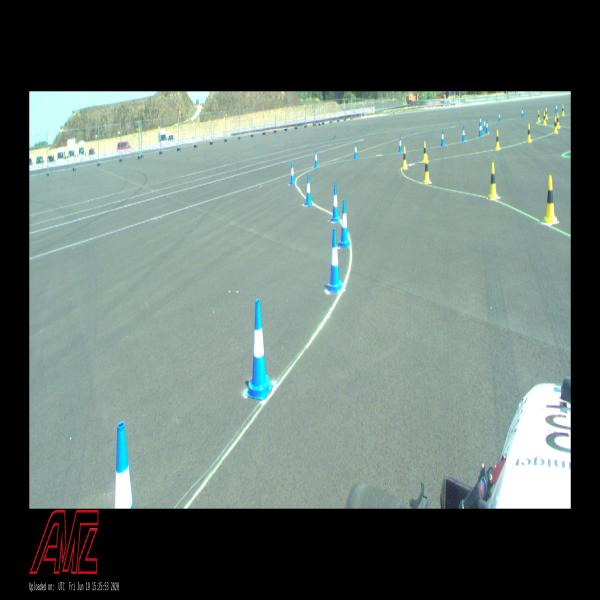blue_cone: (246, 298, 273, 399), (115, 421, 132, 509), (327, 228, 342, 293), (339, 199, 350, 248), (330, 184, 340, 222), (305, 174, 312, 206), (290, 162, 295, 184), (314, 149, 319, 168), (398, 136, 402, 153), (354, 142, 358, 159), (441, 130, 445, 146), (462, 126, 466, 142), (478, 123, 482, 137), (485, 119, 489, 133), (483, 118, 486, 130), (555, 103, 558, 114), (498, 112, 501, 122), (521, 108, 524, 118), (479, 116, 481, 126)
yellow_cone: (544, 176, 558, 224), (488, 163, 497, 198), (424, 155, 432, 184), (402, 146, 408, 170), (526, 124, 532, 141), (495, 130, 500, 150), (553, 117, 558, 134), (423, 141, 426, 162), (557, 113, 560, 128), (543, 112, 546, 124), (545, 108, 548, 119), (562, 105, 565, 115), (538, 110, 540, 122)
